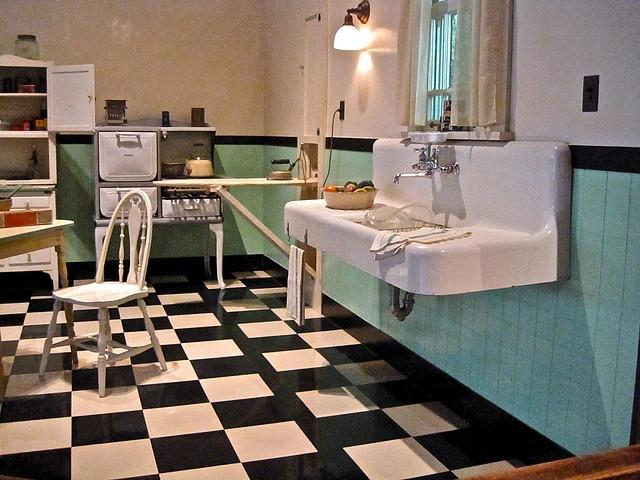Kursi: (36, 187, 167, 398)
